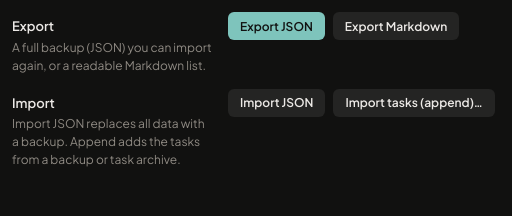
Settings → Import / Export — the Markdown file’s name › is today’s local day, late in the evening too
Click the button "Export Markdown": (396, 26) [333,12,459,40]
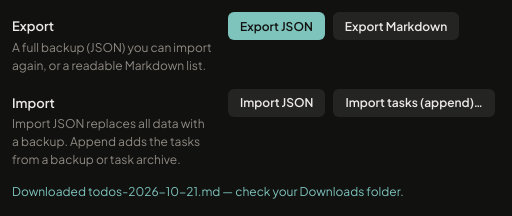
Result: the text "Downloaded todos-2026-10-21.md — check your Downloads folder." is shown at [12,184,404,199]
